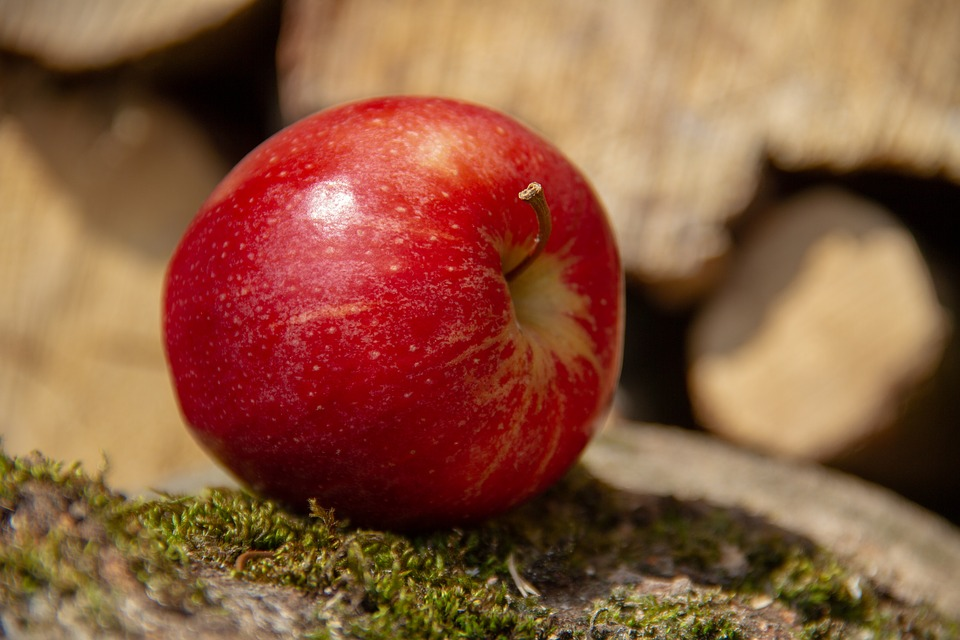apple: (157, 92, 630, 537)
